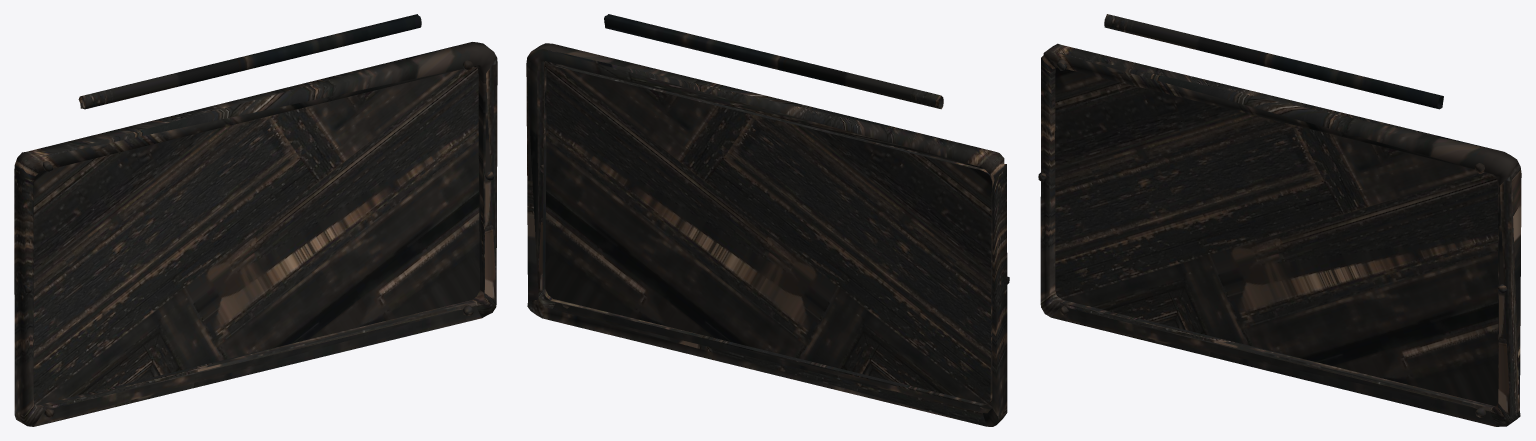
File: Restroom2.fbx
The picture shows the model from 3 angles, left to right: view 1: azimuth 30°, elevation 25°; view 2: azimuth 150°, elevation 25°; view 3: azimuth 330°, elevation 25°; orthographic projection.
Parts seen in each view (by area): view 1: Restroom2; view 2: Restroom2; view 3: Restroom2.
Part boxes in pixels (<box>): Restroom2: <box>14,14,497,426</box>; Restroom2: <box>526,14,1009,426</box>; Restroom2: <box>1038,14,1521,426</box>.
Size of the model in its own units: 540 by 346 by 25.35.
